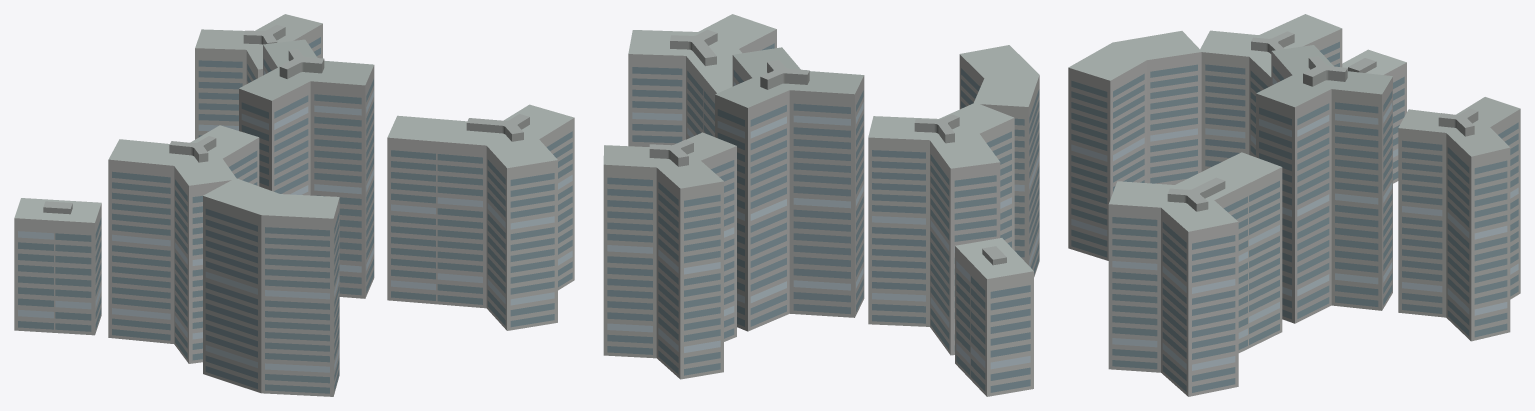
Rendered from apt-a15007002.glb.
The picture shows the model from 3 angles, left to right: view 1: azimuth 30°, elevation 25°; view 2: azimuth 150°, elevation 25°; view 3: azimuth 270°, elevation 25°; orthographic projection. The views are drawn at different scales.
Parts seen in each view (by area): view 1: apt-a15007002; view 2: apt-a15007002; view 3: apt-a15007002.
Part boxes in pixels (x1=…): apt-a15007002: x1=14, y1=14, x2=574, y2=396; apt-a15007002: x1=603, y1=14, x2=1039, y2=396; apt-a15007002: x1=1068, y1=14, x2=1520, y2=396.
Size of the model in its own units: 122 by 55 by 99.63.
